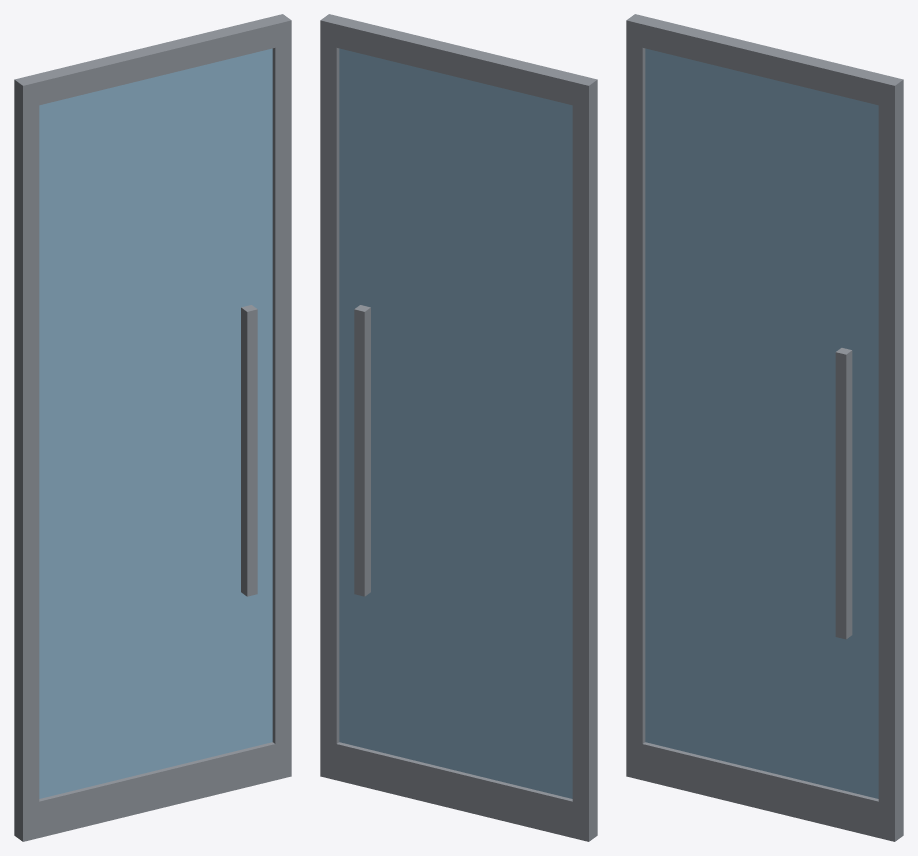
The model's file is SM_Door_glass_90x240.fbx.
3 renders of one model, left to right at view 1: azimuth 30°, elevation 25°; view 2: azimuth 150°, elevation 25°; view 3: azimuth 330°, elevation 25°, orthographic.
Parts seen in each view (by area): view 1: SM_Door_glass_90x240; view 2: SM_Door_glass_90x240; view 3: SM_Door_glass_90x240.
Boxes of the visible parts, <box> form: SM_Door_glass_90x240: <box>14,14,291,841</box>; SM_Door_glass_90x240: <box>320,14,597,841</box>; SM_Door_glass_90x240: <box>626,14,903,841</box>.
Bounding box in the file's own units: 0.888 × 2.39 × 0.135.
